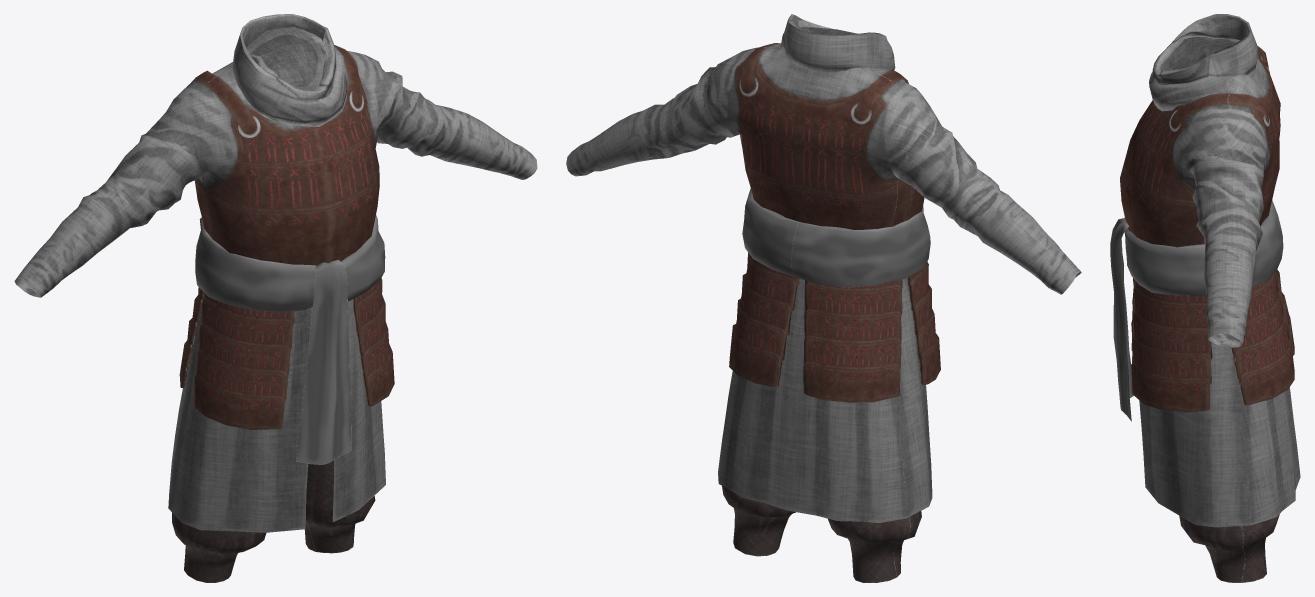
The model's file is easterling02_v1_torso.fbx.
3 renders of one model, left to right at view 1: azimuth 30°, elevation 25°; view 2: azimuth 150°, elevation 25°; view 3: azimuth 270°, elevation 25°, orthographic. The views are drawn at different scales.
Parts seen in each view (by area): view 1: easterling02_v1_torso; view 2: easterling02_v1_torso; view 3: easterling02_v1_torso.
Boxes of the visible parts, x1,y1,x2,y2 form: easterling02_v1_torso: (14, 14, 537, 582); easterling02_v1_torso: (566, 14, 1081, 582); easterling02_v1_torso: (1110, 14, 1300, 582).
Size of the model in its own units: 1.33 by 0.4424 by 1.33.
1 material, 1 textured.
